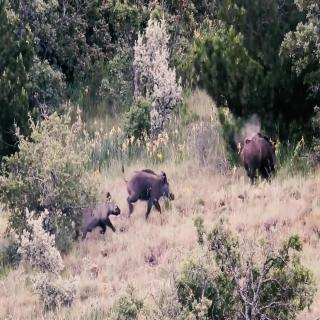Pig: (116, 146, 180, 226), (65, 181, 125, 254), (231, 124, 283, 204)
